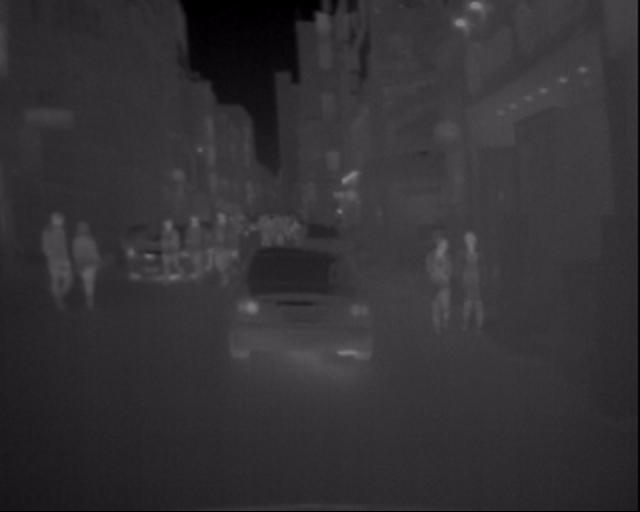person: (453, 233, 489, 339), (31, 224, 65, 321), (430, 237, 458, 340), (72, 232, 97, 316), (158, 224, 183, 299), (220, 216, 245, 287), (194, 216, 216, 286), (275, 217, 308, 253)
